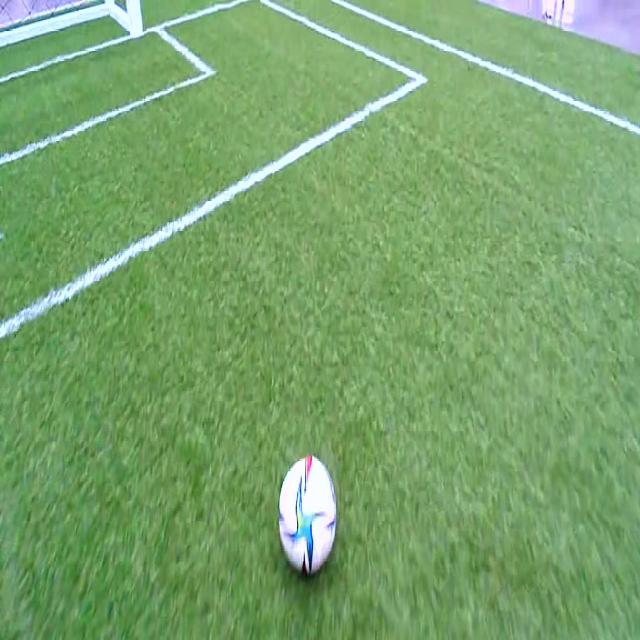ball: (279, 456, 337, 573)
